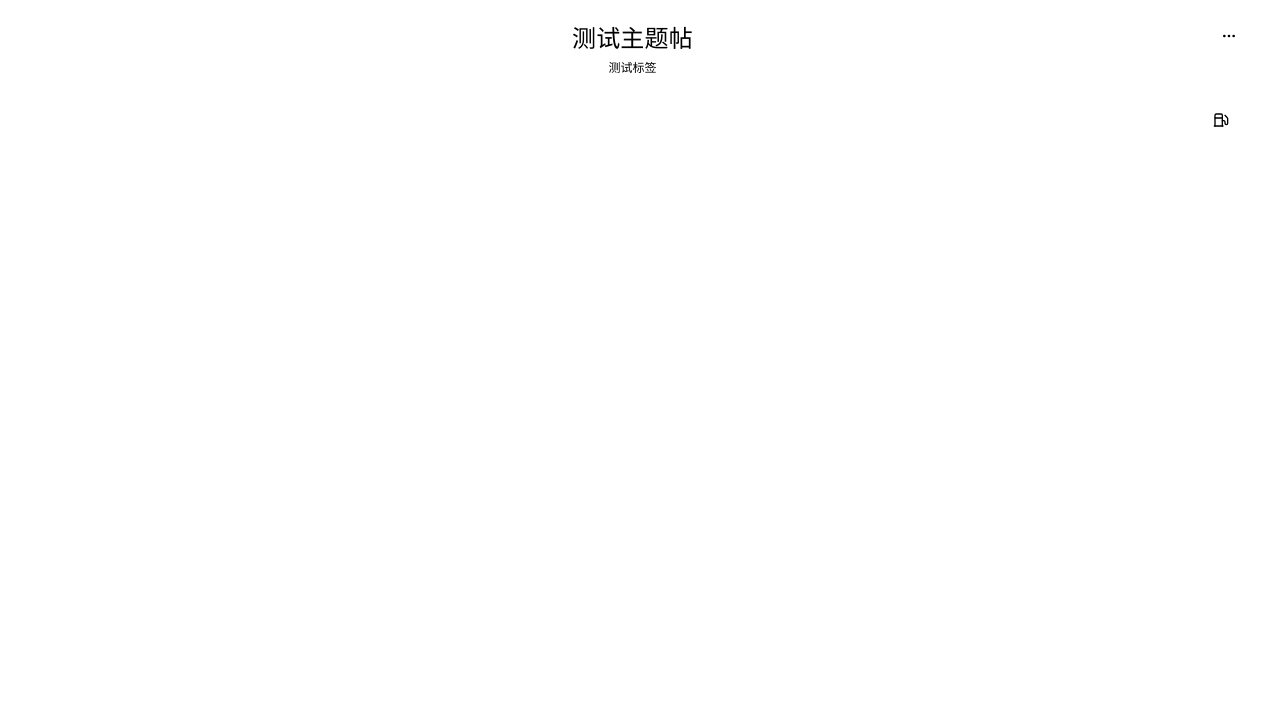
Scenario: ThreadDetailHeader › 平台管理员在公开主题帖的更多面板看到站务隐藏入口
The image size is (1280, 720).
Click the button named "更多帖子信息与操作": (1229, 36) [1213,20,1245,52]
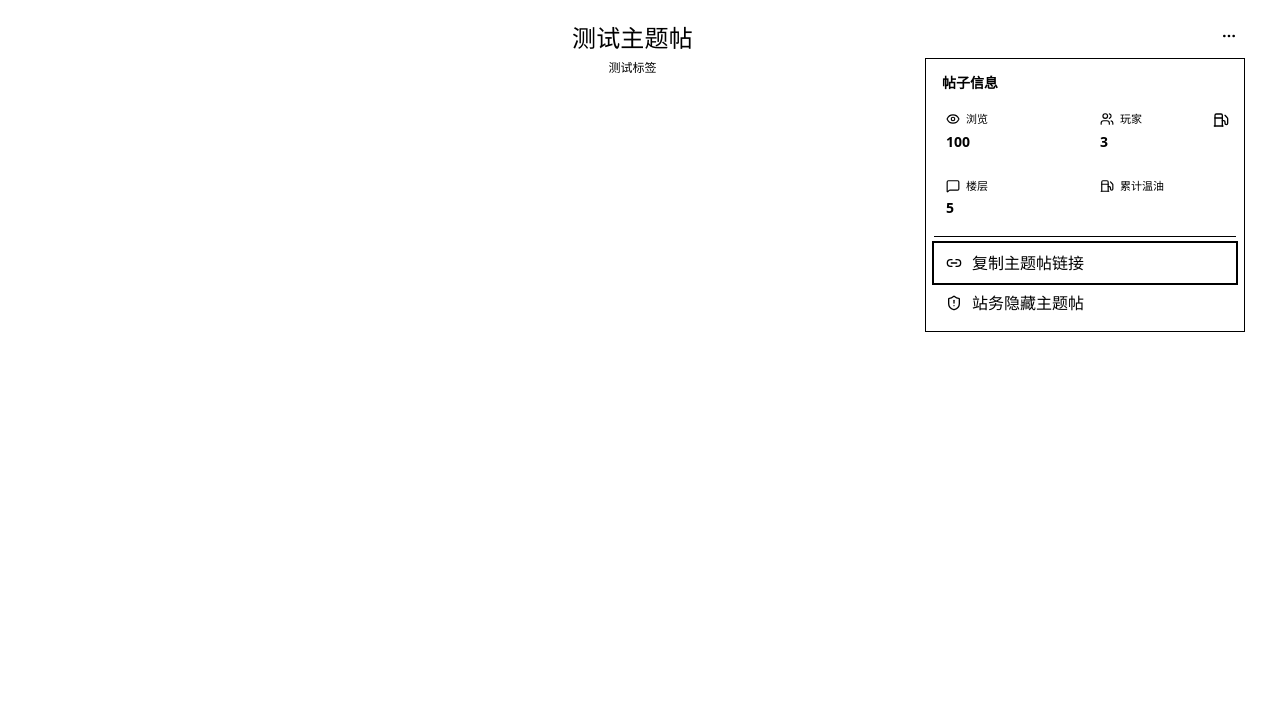
Check: the button "站务隐藏主题帖" is shown, box [934,283,1236,323]
